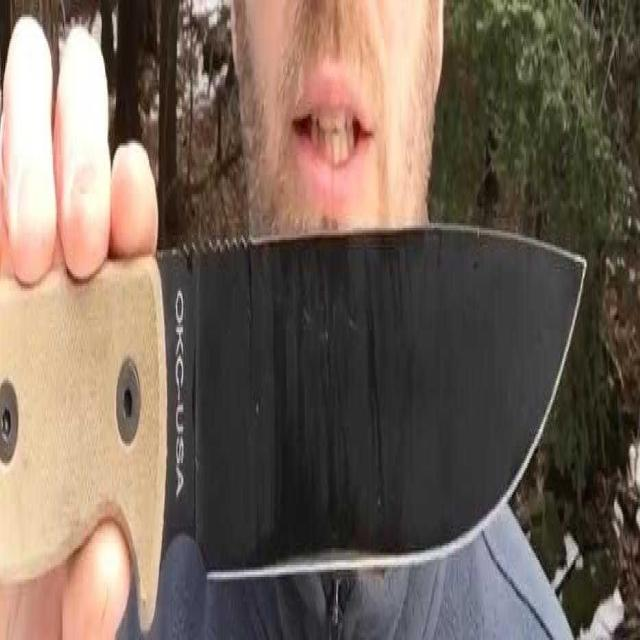Knife: (0, 243, 592, 568)
